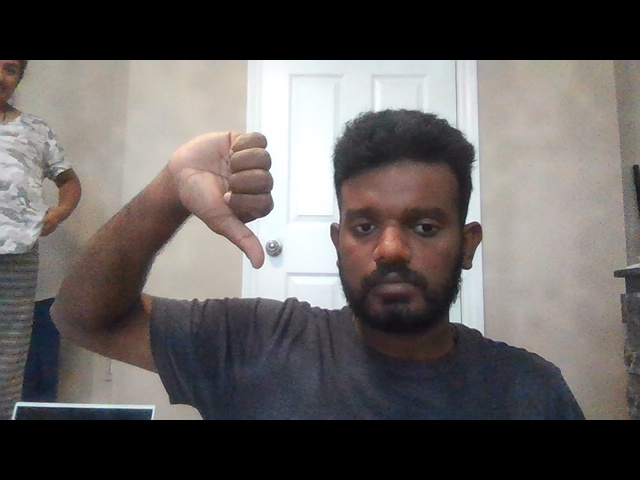no: (167, 126, 281, 271)
